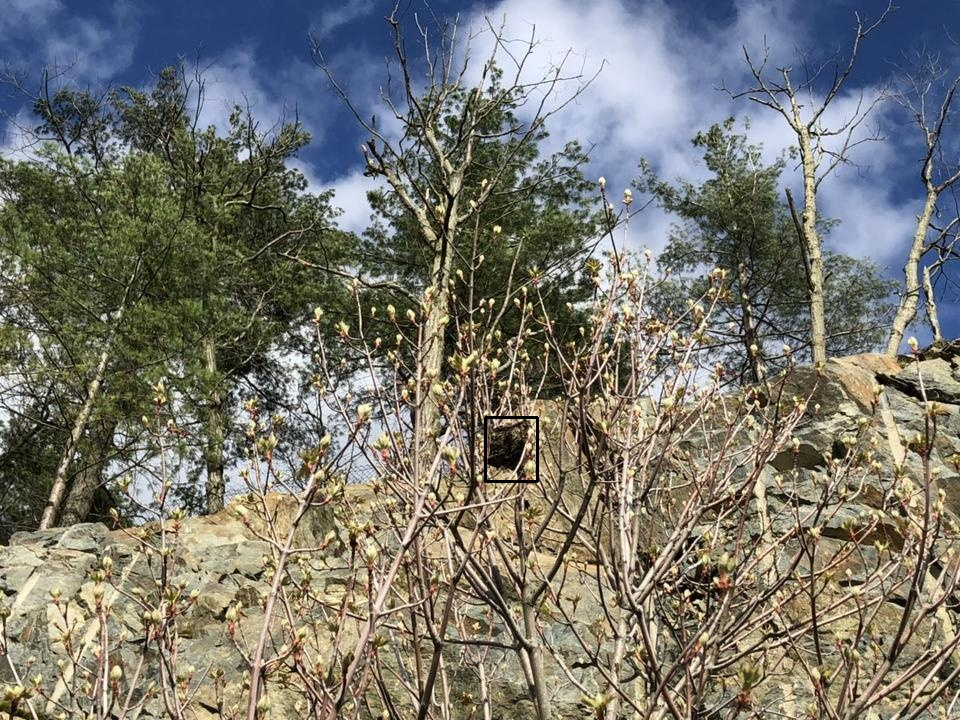bird-nest: (485, 417, 537, 481)
